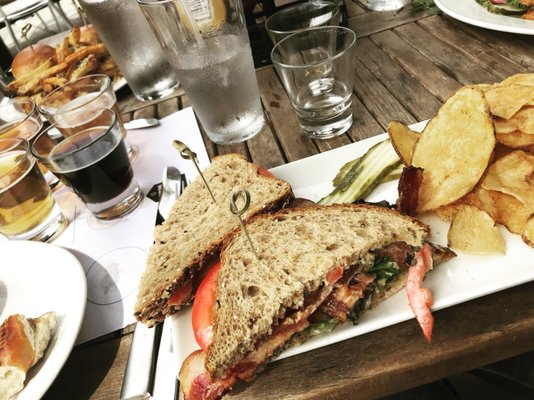pizza: (143, 0, 267, 143), (28, 73, 142, 222), (76, 0, 183, 102), (269, 25, 357, 140), (0, 136, 64, 243)
soup: (183, 199, 434, 400), (133, 153, 297, 325), (388, 85, 497, 218)
sushi: (0, 237, 87, 399)
